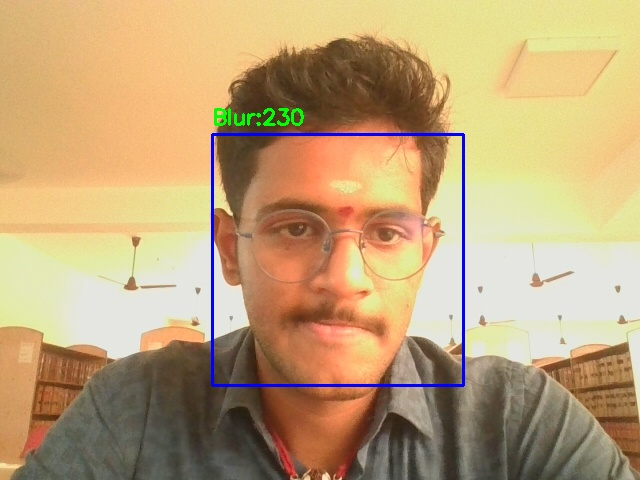real: (212, 134, 463, 385)
